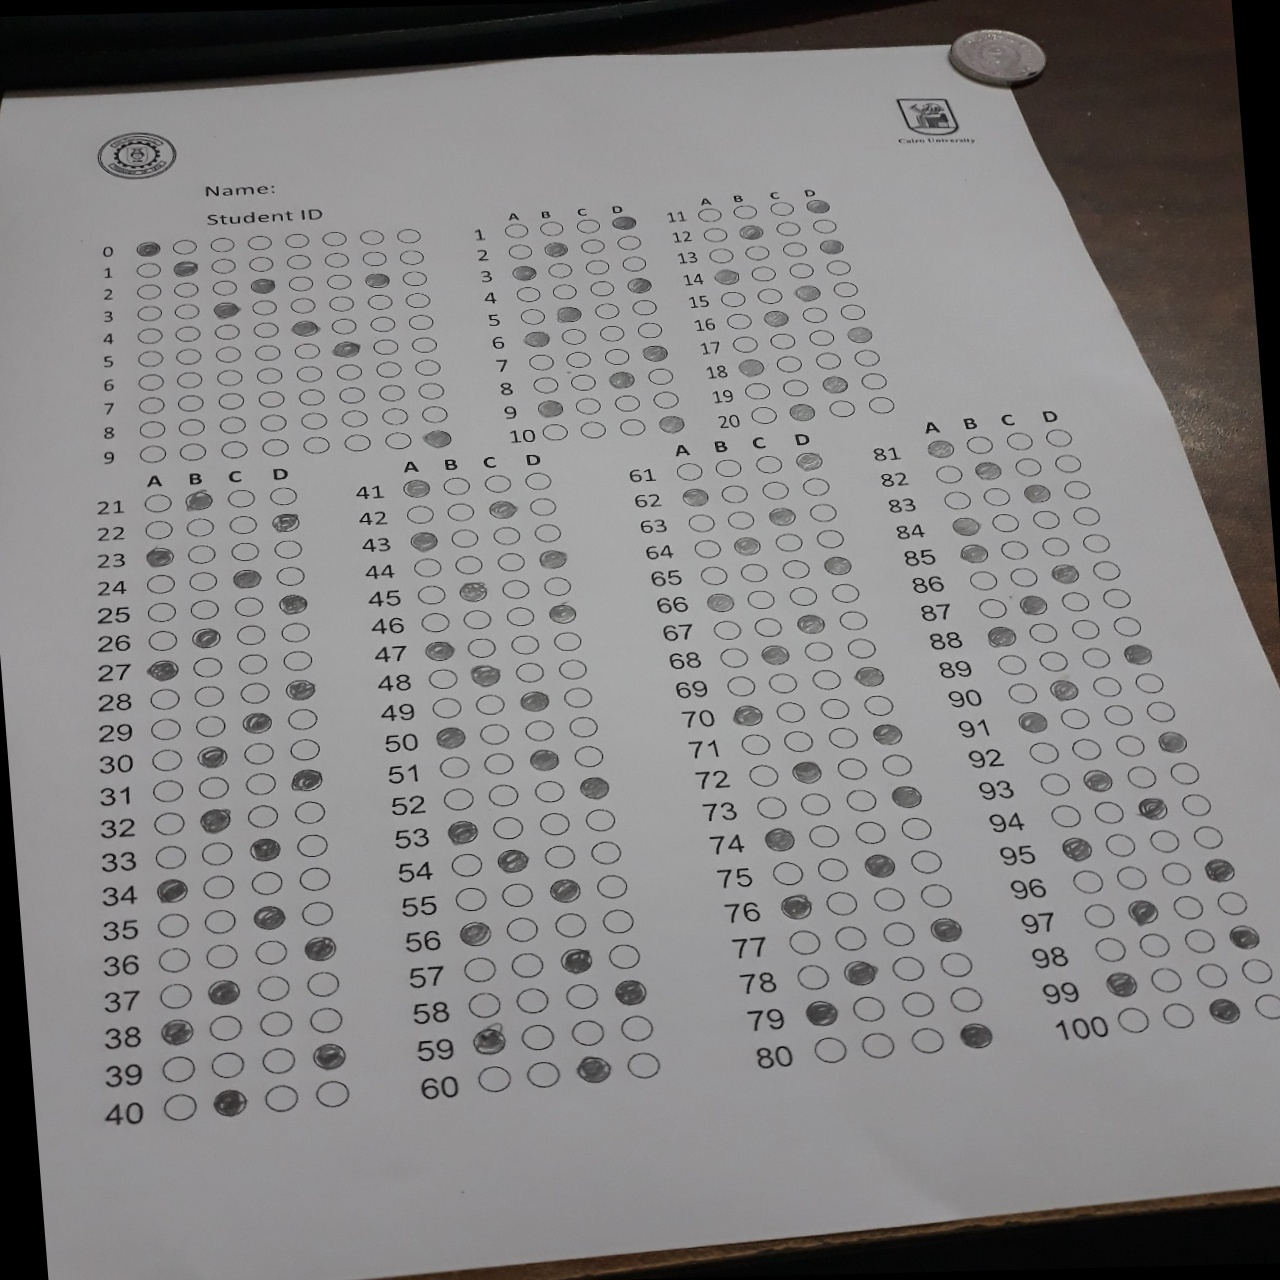not-c: (203, 944, 240, 973), (256, 972, 292, 1001), (159, 1055, 196, 1084), (157, 945, 193, 974), (263, 1083, 299, 1112), (258, 1010, 295, 1039), (162, 1092, 199, 1121), (156, 908, 193, 937), (159, 981, 195, 1010), (315, 1080, 352, 1108), (261, 1046, 298, 1074), (304, 969, 340, 998), (308, 1006, 345, 1034), (210, 1050, 246, 1078), (299, 898, 335, 926), (298, 863, 334, 891), (599, 907, 636, 934), (468, 990, 505, 1017), (515, 987, 552, 1014), (626, 1051, 663, 1078), (251, 937, 288, 964), (291, 799, 328, 826), (147, 712, 184, 738), (503, 915, 539, 942), (606, 942, 642, 969), (510, 952, 546, 979), (568, 1019, 605, 1046), (617, 1014, 653, 1041), (205, 1014, 241, 1041), (248, 869, 285, 896), (199, 840, 236, 867), (196, 774, 233, 799), (200, 908, 238, 934), (150, 810, 188, 836), (149, 776, 186, 802), (148, 744, 185, 770), (285, 735, 322, 761), (285, 706, 322, 731), (939, 951, 974, 978), (859, 1032, 894, 1058), (900, 987, 935, 1014), (833, 924, 869, 951), (880, 919, 915, 946), (918, 883, 953, 910), (873, 884, 908, 911), (845, 788, 880, 815), (553, 912, 590, 938), (478, 1065, 515, 1091), (246, 802, 282, 828), (200, 874, 237, 900), (154, 844, 190, 870), (241, 741, 278, 767), (193, 713, 230, 738), (293, 832, 331, 857), (1115, 1005, 1149, 1032), (949, 986, 983, 1013), (908, 1026, 942, 1053), (813, 1035, 847, 1062), (796, 964, 830, 990), (789, 930, 823, 956), (824, 888, 858, 915), (910, 847, 944, 874), (806, 821, 840, 847), (900, 815, 934, 842), (461, 956, 495, 983), (850, 996, 885, 1022), (890, 955, 925, 981), (815, 857, 850, 883), (771, 859, 806, 885), (563, 983, 598, 1009), (241, 771, 277, 797), (525, 1062, 561, 1087), (147, 686, 183, 710), (237, 680, 273, 704), (1160, 1003, 1194, 1029), (852, 821, 886, 846), (797, 791, 831, 817), (583, 806, 617, 832), (520, 1024, 554, 1050), (1092, 937, 1128, 961), (1135, 932, 1170, 956), (1196, 962, 1231, 987), (189, 683, 225, 707), (188, 654, 224, 678), (277, 620, 313, 644), (1240, 958, 1273, 983), (755, 794, 788, 819), (810, 666, 843, 692), (802, 638, 835, 663), (1082, 903, 1116, 927), (1182, 927, 1216, 952), (1149, 967, 1183, 992), (747, 763, 781, 788), (880, 751, 914, 776), (826, 726, 860, 750), (779, 727, 813, 751), (737, 733, 771, 757), (845, 636, 879, 661), (726, 670, 757, 696), (717, 644, 749, 669), (280, 648, 316, 670), (185, 570, 222, 592), (232, 622, 268, 645), (835, 755, 867, 779), (774, 699, 806, 723), (441, 787, 474, 811), (490, 782, 523, 806), (543, 843, 576, 867), (593, 873, 626, 898), (501, 881, 533, 906), (1148, 828, 1182, 851), (1070, 867, 1104, 891), (1159, 862, 1193, 885), (1212, 892, 1246, 915), (1251, 992, 1280, 1019), (233, 652, 268, 674), (272, 537, 307, 559), (226, 539, 261, 561), (768, 669, 799, 694), (1067, 736, 1099, 760), (1115, 733, 1148, 756), (1165, 761, 1198, 784), (1102, 832, 1135, 856), (862, 695, 894, 719), (491, 815, 524, 838), (451, 851, 484, 874), (587, 840, 620, 864), (455, 886, 488, 910), (144, 601, 181, 622), (232, 595, 268, 617), (1058, 706, 1092, 728), (1190, 825, 1224, 847), (1116, 866, 1150, 888), (520, 719, 554, 741), (183, 542, 217, 564), (273, 564, 307, 586), (966, 568, 1001, 590), (816, 695, 847, 719), (699, 565, 730, 588), (772, 530, 804, 553), (533, 779, 565, 803), (144, 572, 179, 593), (186, 597, 222, 618), (1027, 740, 1060, 762), (1123, 765, 1156, 788), (1048, 805, 1081, 828), (1091, 801, 1124, 823), (1179, 794, 1212, 816), (1173, 896, 1206, 918), (537, 812, 570, 835), (1039, 535, 1073, 556), (147, 629, 181, 651), (713, 618, 743, 641), (837, 610, 869, 632), (781, 558, 812, 580), (474, 693, 505, 715), (686, 511, 717, 533), (1040, 772, 1073, 794), (788, 585, 821, 606), (509, 634, 542, 655), (550, 629, 583, 651), (182, 517, 215, 538), (142, 493, 175, 515), (137, 418, 170, 440), (568, 715, 598, 738), (440, 755, 469, 778), (1053, 451, 1083, 474), (1133, 670, 1164, 693), (831, 583, 862, 605), (692, 536, 722, 558), (813, 526, 844, 549), (806, 501, 837, 523), (724, 506, 755, 529), (483, 753, 513, 775), (998, 538, 1032, 558), (1005, 567, 1039, 587), (975, 598, 1009, 618), (448, 527, 479, 549), (452, 554, 484, 576), (554, 660, 586, 681), (561, 686, 593, 707), (429, 697, 461, 719), (478, 723, 510, 744), (135, 443, 166, 464), (1108, 615, 1141, 635), (224, 489, 257, 509), (1006, 430, 1035, 452), (1006, 682, 1036, 703), (1092, 676, 1123, 697), (750, 615, 781, 636), (745, 588, 776, 610), (737, 561, 768, 583), (406, 504, 436, 525), (445, 501, 476, 522), (513, 661, 544, 682), (574, 745, 605, 767), (1058, 592, 1092, 611), (1027, 622, 1058, 642), (1080, 647, 1111, 667), (427, 668, 458, 688), (266, 486, 298, 506), (142, 519, 173, 539), (1091, 559, 1119, 581), (935, 463, 964, 485), (1063, 479, 1092, 501), (1081, 532, 1110, 553), (966, 431, 995, 452), (982, 486, 1012, 508), (1071, 618, 1101, 639), (996, 653, 1026, 674), (1146, 702, 1176, 723), (1104, 703, 1133, 724), (527, 496, 557, 517), (988, 513, 1021, 532), (1027, 509, 1060, 527), (1099, 588, 1132, 607), (226, 515, 259, 533), (1039, 651, 1069, 670), (674, 461, 704, 481), (440, 476, 470, 496), (411, 557, 442, 577), (497, 553, 527, 573), (462, 610, 492, 629), (467, 638, 497, 658), (136, 395, 166, 415), (135, 349, 165, 369), (210, 277, 240, 297), (1044, 425, 1073, 447), (135, 302, 166, 321), (1073, 505, 1102, 525), (1014, 457, 1043, 477), (755, 454, 784, 474), (523, 470, 552, 490), (483, 472, 512, 492), (501, 579, 530, 599), (416, 585, 445, 605), (135, 325, 164, 345), (134, 281, 163, 301), (215, 365, 244, 384), (342, 433, 372, 452), (719, 483, 749, 502), (714, 458, 744, 477), (504, 606, 535, 625), (586, 279, 617, 298), (535, 524, 563, 544), (492, 525, 520, 545), (380, 406, 408, 425), (578, 420, 606, 440), (768, 331, 796, 350), (944, 490, 973, 509), (801, 476, 830, 495), (542, 577, 571, 595), (420, 612, 449, 631), (137, 373, 166, 392), (219, 440, 248, 458), (217, 414, 246, 433), (253, 366, 282, 384), (298, 411, 327, 430), (294, 340, 324, 359), (327, 294, 356, 313), (338, 386, 367, 404), (340, 409, 369, 428), (383, 430, 413, 449), (411, 335, 441, 354), (169, 236, 198, 254), (175, 324, 202, 343), (829, 399, 856, 418), (813, 350, 840, 370), (760, 481, 788, 499), (176, 393, 204, 411), (177, 418, 205, 437), (215, 390, 243, 409), (213, 345, 241, 363), (212, 321, 240, 340), (251, 297, 279, 315), (254, 343, 282, 362), (257, 388, 285, 407), (260, 413, 288, 431), (302, 435, 331, 454), (297, 387, 325, 406), (326, 271, 354, 290), (336, 362, 365, 381), (417, 381, 445, 400), (414, 359, 442, 377), (377, 383, 406, 402), (372, 336, 400, 355), (374, 359, 402, 377), (324, 250, 352, 268), (206, 234, 234, 253), (573, 395, 601, 414), (540, 422, 568, 441), (749, 265, 777, 284), (177, 442, 206, 459), (251, 320, 280, 338), (294, 363, 324, 381), (421, 404, 450, 422), (366, 293, 395, 311), (358, 229, 387, 246), (359, 248, 388, 266), (207, 258, 237, 275), (282, 231, 312, 248), (838, 302, 867, 320), (173, 300, 200, 319), (331, 316, 358, 335), (744, 382, 771, 401), (726, 312, 753, 331), (776, 354, 803, 373), (782, 379, 809, 397), (809, 327, 836, 346), (802, 305, 829, 324), (286, 274, 316, 291), (261, 437, 290, 455), (288, 297, 316, 314), (404, 313, 433, 331), (369, 315, 397, 333), (403, 290, 431, 307), (399, 268, 427, 286), (395, 226, 423, 244), (321, 229, 349, 246), (285, 252, 313, 270), (245, 233, 273, 251), (132, 260, 161, 278), (612, 394, 640, 411), (618, 417, 646, 435), (731, 334, 760, 352), (632, 298, 658, 316), (789, 260, 815, 279), (825, 258, 851, 277), (396, 247, 425, 264), (246, 254, 275, 271), (172, 279, 199, 297), (175, 347, 202, 365), (176, 372, 203, 389), (538, 218, 565, 236), (515, 285, 542, 302), (550, 282, 577, 300), (602, 347, 629, 365), (568, 373, 595, 390), (621, 254, 648, 272), (750, 406, 777, 423), (853, 348, 880, 366), (862, 372, 888, 389), (745, 244, 772, 261), (508, 241, 532, 260), (580, 237, 605, 256), (867, 397, 896, 414), (731, 202, 760, 218), (573, 217, 599, 234), (520, 306, 546, 324), (584, 258, 610, 275), (529, 353, 554, 370), (647, 367, 673, 384), (617, 232, 642, 250), (652, 390, 678, 408), (719, 290, 744, 307), (757, 285, 783, 302), (832, 280, 858, 298), (708, 246, 734, 264), (700, 224, 726, 241), (636, 322, 663, 339), (781, 240, 808, 257), (598, 325, 624, 341), (565, 350, 591, 367), (532, 376, 558, 393), (811, 218, 837, 234), (776, 220, 802, 237), (697, 205, 723, 222), (505, 222, 530, 238), (549, 261, 573, 278), (561, 328, 587, 343), (594, 302, 620, 318), (768, 199, 794, 215)
taken-c: (157, 1017, 195, 1046), (958, 1022, 993, 1051), (840, 958, 876, 986), (779, 892, 815, 920), (560, 946, 595, 974), (1103, 969, 1137, 998), (804, 1000, 838, 1028), (493, 847, 530, 873), (576, 1056, 612, 1082), (312, 1043, 348, 1069), (212, 1089, 248, 1115), (930, 915, 964, 942), (458, 919, 493, 945), (612, 979, 647, 1005), (472, 1029, 508, 1055), (251, 904, 286, 930), (195, 808, 230, 833), (288, 768, 324, 794), (762, 826, 798, 851), (546, 878, 583, 903), (205, 980, 241, 1005), (299, 935, 335, 960), (1206, 998, 1239, 1024), (789, 760, 823, 785), (154, 877, 188, 903), (890, 784, 925, 809), (869, 721, 904, 745), (247, 837, 282, 862), (1228, 922, 1260, 949), (191, 625, 224, 651), (284, 678, 318, 702), (1061, 836, 1092, 862), (731, 703, 765, 727), (1201, 859, 1234, 883), (852, 665, 885, 688), (760, 642, 792, 666), (795, 612, 828, 635), (701, 590, 734, 613), (196, 745, 229, 769), (240, 712, 273, 735), (862, 855, 896, 877), (1083, 768, 1114, 792), (1126, 898, 1157, 922), (821, 553, 852, 577), (445, 819, 477, 843), (147, 658, 178, 681), (765, 505, 797, 527), (435, 727, 467, 749), (183, 489, 215, 511), (1156, 731, 1189, 753), (407, 531, 440, 552), (268, 511, 301, 532), (1137, 798, 1167, 821), (731, 535, 762, 557), (275, 592, 306, 614), (956, 542, 988, 563), (1048, 563, 1080, 584), (1017, 594, 1049, 615), (1048, 680, 1080, 701), (457, 581, 489, 602), (544, 602, 576, 624), (516, 690, 547, 712), (526, 749, 558, 770), (577, 777, 608, 798), (144, 545, 176, 566), (231, 567, 263, 588), (425, 640, 456, 661), (470, 665, 501, 686), (1121, 644, 1152, 663), (1015, 712, 1047, 731), (949, 515, 980, 535), (985, 626, 1015, 646), (681, 486, 712, 506), (401, 478, 431, 498), (972, 459, 1001, 479), (537, 549, 566, 568), (536, 399, 565, 418), (422, 429, 452, 448), (486, 499, 515, 519), (658, 413, 686, 433), (925, 438, 954, 457), (794, 451, 823, 470), (639, 342, 668, 361), (331, 340, 361, 358), (522, 329, 550, 348), (736, 358, 764, 376), (290, 319, 319, 336), (512, 263, 538, 282), (821, 375, 846, 395), (134, 238, 161, 257), (737, 222, 764, 240), (788, 402, 815, 421), (794, 282, 821, 301), (819, 236, 846, 254), (211, 299, 237, 318), (362, 271, 392, 287), (1024, 483, 1051, 501), (171, 258, 198, 275), (608, 370, 635, 388), (625, 275, 652, 293), (712, 268, 738, 286), (844, 326, 871, 343), (248, 278, 277, 294), (554, 305, 580, 322), (611, 215, 638, 231), (761, 309, 788, 326), (804, 198, 830, 215), (544, 240, 567, 258)
